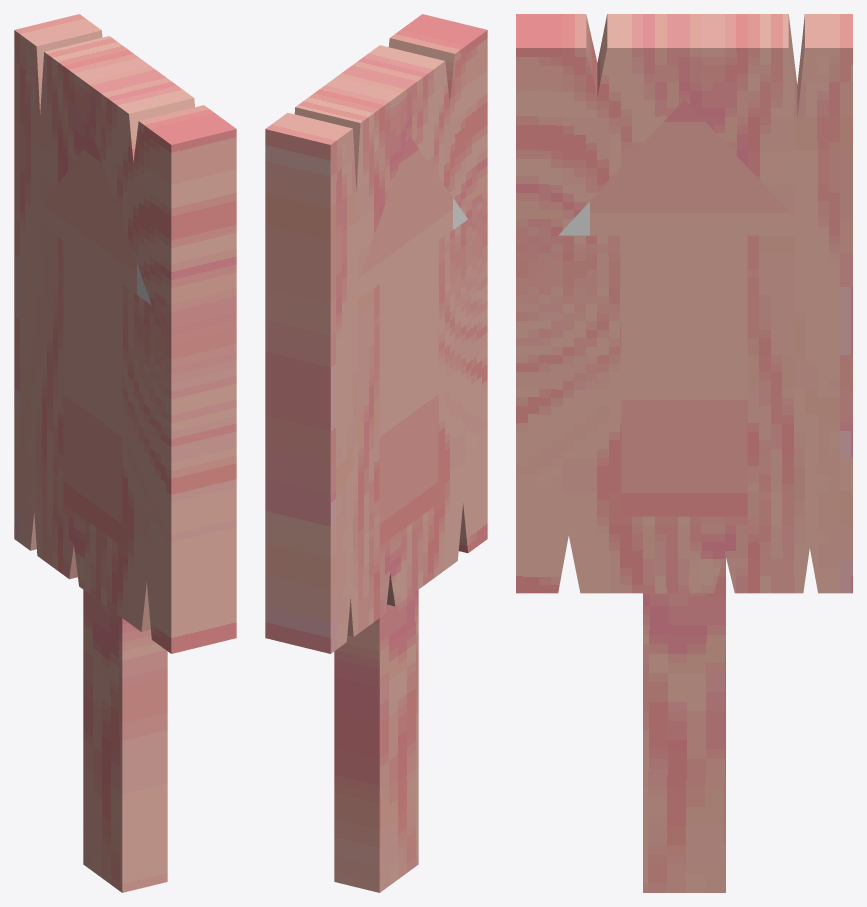
The model's file is arrowboardup.dae.
3 renders of one model, left to right at view 1: azimuth 30°, elevation 25°; view 2: azimuth 150°, elevation 25°; view 3: azimuth 270°, elevation 25°, orthographic. The views are drawn at different scales.
Parts seen in each view (by area): view 1: m0; view 2: m0; view 3: m0.
Boxes of the visible parts, <box> form: m0: <box>14,14,236,892</box>; m0: <box>265,14,487,892</box>; m0: <box>516,14,852,892</box>.
Size of the model in its own units: 41.59 by 483 by 173.
1 material, 1 textured.
